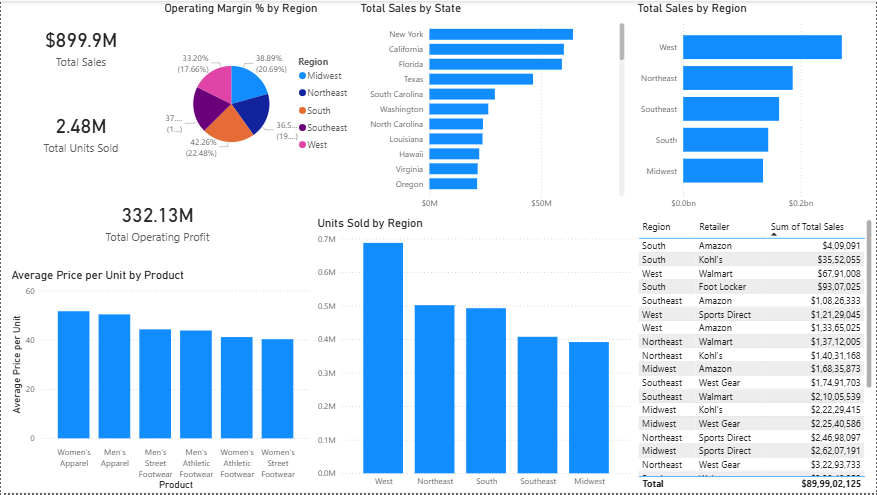

What the dashboard file says about the page in this screenshot:
{"tool":"powerbi","page":{"name":"Page 2","canvas":[1280,720],"ordinal":1},"visuals":[{"type":"pieChart","fields":{"Category":["Table 1 (Data Sales Adidas).Region"],"Y":["select","Table 1 (Data Sales Adidas).Operating Margin %"]},"box":[10.1,0,425,292.3],"z":0},{"type":"clusteredColumnChart","fields":{"Category":["Table 1 (Data Sales Adidas).Product"],"Y":["Avg(Table 1 (Data Sales Adidas).Price per Unit)"]},"box":[10.1,302.4,448.5,418.3],"z":1000},{"type":"clusteredBarChart","fields":{"Category":["Table 1 (Data Sales Adidas).State"],"Y":["Sum(Table 1 (Data Sales Adidas).Total Sales)"]},"box":[445.1,0,472,314.1],"z":2000},{"type":"clusteredBarChart","fields":{"Category":["Table 1 (Data Sales Adidas).Region"],"Y":["Sum(Table 1 (Data Sales Adidas).Total Sales)"]},"box":[927,0,353,314],"z":3000},{"type":"clusteredColumnChart","fields":{"Category":["Table 1 (Data Sales Adidas).Region"],"Y":["Sum(Table 1 (Data Sales Adidas).Units Sold)"]},"box":[458.6,314.1,468.7,406.5],"z":4000},{"type":"tableEx","fields":{"Values":["Table 1 (Data Sales Adidas).Region","Table 1 (Data Sales Adidas).Retailer","Sum(Table 1 (Data Sales Adidas).Total Sales)"]},"box":[928,314,352,406],"z":5000}]}

Visuals, with their boxes in screenshot pixels (x1, y1, x2, y2), scaled from the page's 1280x720 canvas onto the 877x495 screenshot:
pieChart - Table 1 (Data Sales Adidas).Region x select: region(7, 0, 298, 201)
clusteredColumnChart - Table 1 (Data Sales Adidas).Product x Avg(Table 1 (Data Sales Adidas).Price per Unit): region(7, 208, 314, 494)
clusteredBarChart - Table 1 (Data Sales Adidas).State x Sum(Table 1 (Data Sales Adidas).Total Sales): region(305, 0, 628, 216)
clusteredBarChart - Table 1 (Data Sales Adidas).Region x Sum(Table 1 (Data Sales Adidas).Total Sales): region(635, 0, 876, 216)
clusteredColumnChart - Table 1 (Data Sales Adidas).Region x Sum(Table 1 (Data Sales Adidas).Units Sold): region(314, 216, 635, 494)
tableEx - Table 1 (Data Sales Adidas).Region x Table 1 (Data Sales Adidas).Retailer: region(636, 216, 876, 494)
